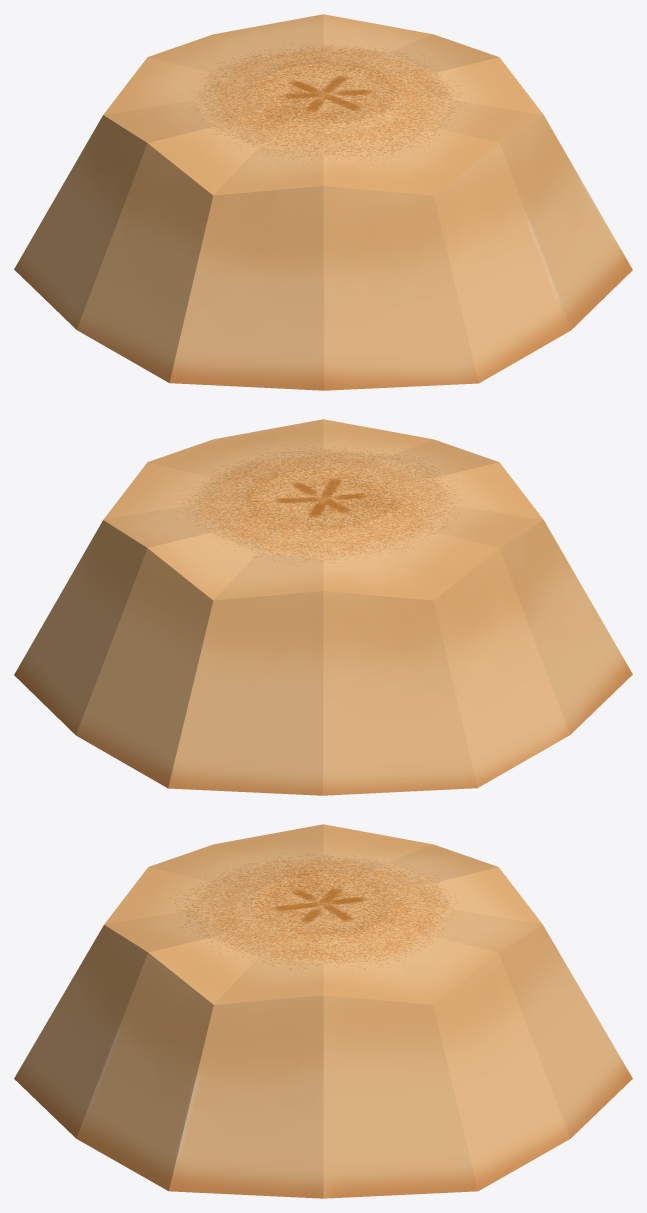
The model's file is Natilla.fbx.
The picture shows the model from 3 angles, top to bottom: view 1: azimuth 30°, elevation 25°; view 2: azimuth 150°, elevation 25°; view 3: azimuth 270°, elevation 25°; orthographic projection.
Visible parts, largest first — view 1: pCylinder3; view 2: pCylinder3; view 3: pCylinder3.
Boxes of the visible parts, bbox=[...] form: pCylinder3: bbox=[14, 14, 632, 390]; pCylinder3: bbox=[14, 419, 632, 795]; pCylinder3: bbox=[14, 824, 632, 1198].
Size of the model in its own units: 17.83 by 6.05 by 19.44.
Materials: 1 (1 with a texture image).
